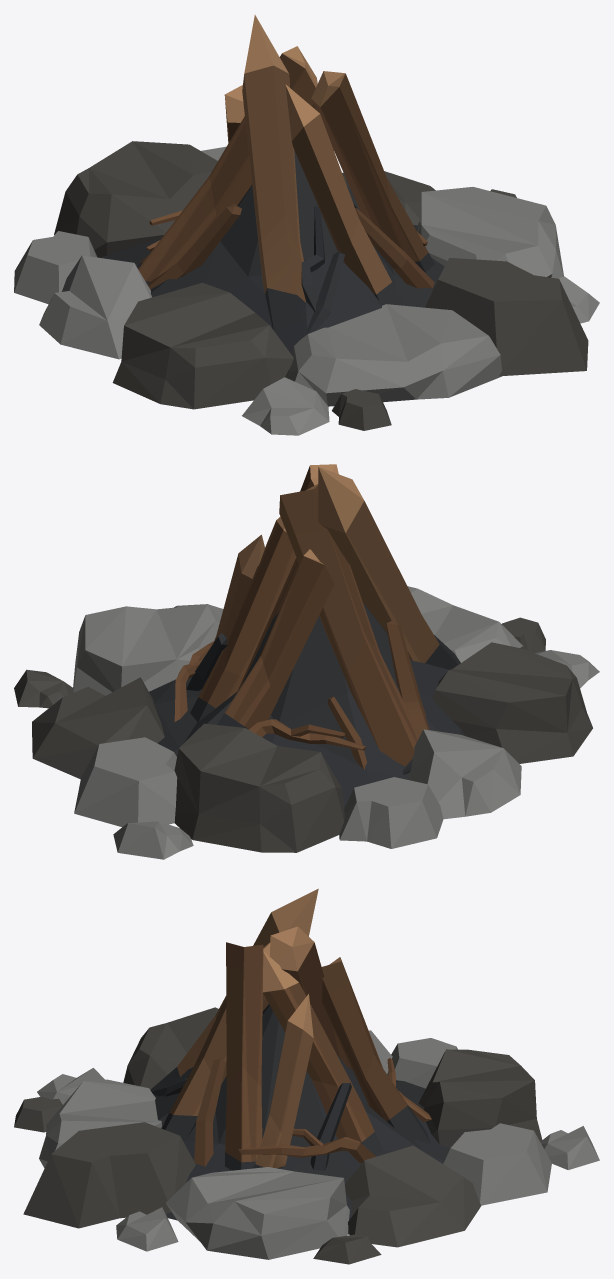
Rendered from bog_campfire.gltf.
The picture shows the model from 3 angles, top to bottom: view 1: azimuth 30°, elevation 25°; view 2: azimuth 150°, elevation 25°; view 3: azimuth 270°, elevation 25°; orthographic projection. The views are drawn at different scales.
Visible parts, largest first — view 1: bog_campfire; view 2: bog_campfire; view 3: bog_campfire.
Boxes of the visible parts, bbox=[...] form: bog_campfire: bbox=[14, 15, 599, 435]; bog_campfire: bbox=[14, 464, 599, 859]; bog_campfire: bbox=[14, 888, 599, 1264].
Size of the model in its own units: 1.66 by 0.922 by 1.94.
Materials: 1 (1 with a texture image).
